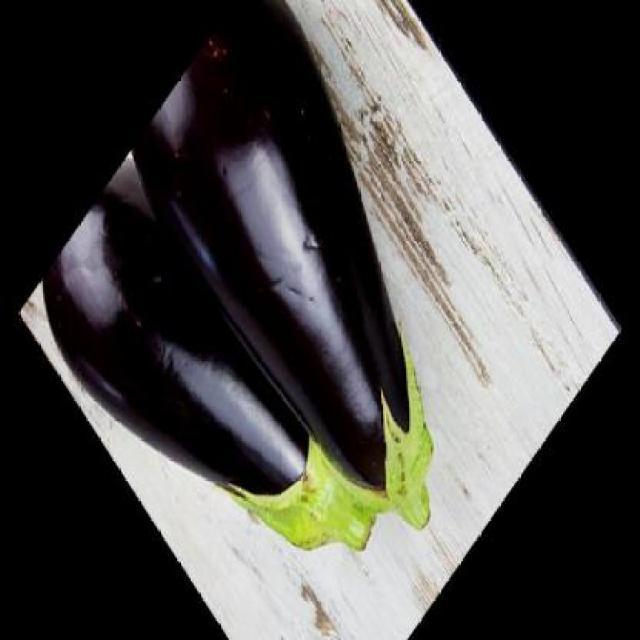eggplant: (25, 136, 387, 639), (134, 0, 438, 523)
